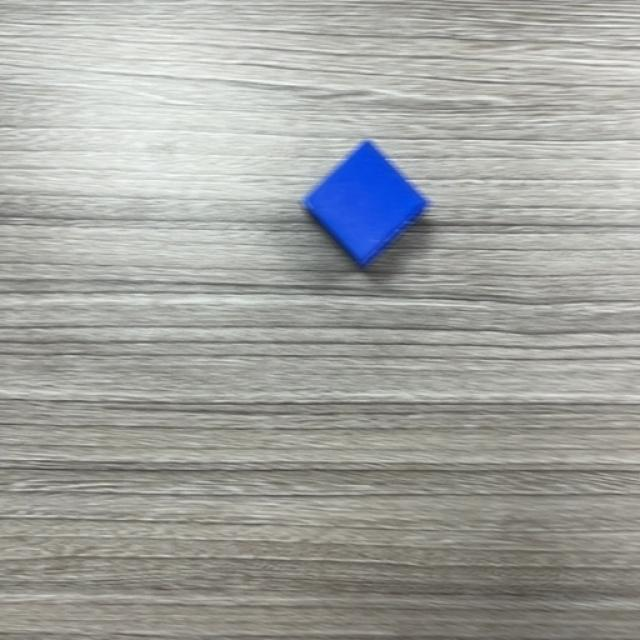Azul: (301, 141, 429, 270)
